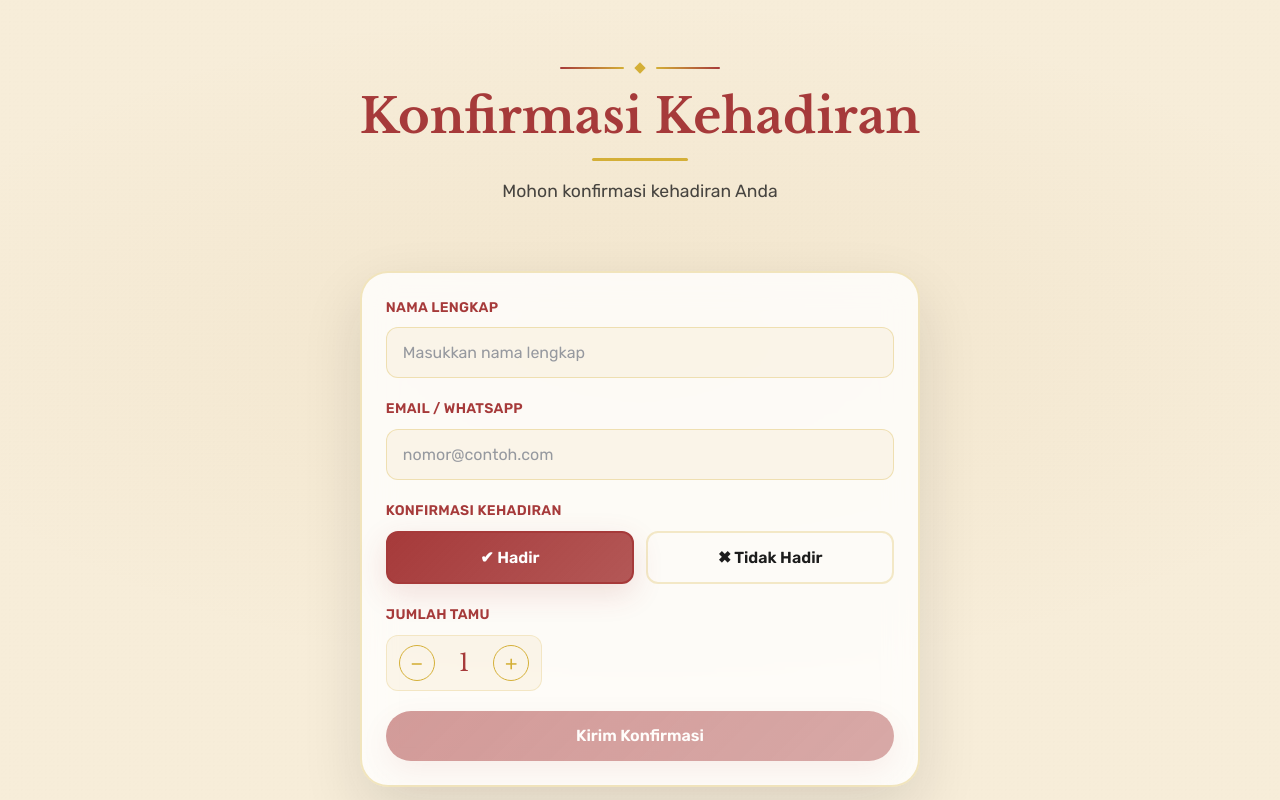
Scenario: RsvpComponent › should hide pax selector when NOT_ATTENDING is selected
Click the button with class "rsvp__toggle" showing "✖ Tidak Hadir".
click(770, 558)  # box [646, 531, 894, 584]
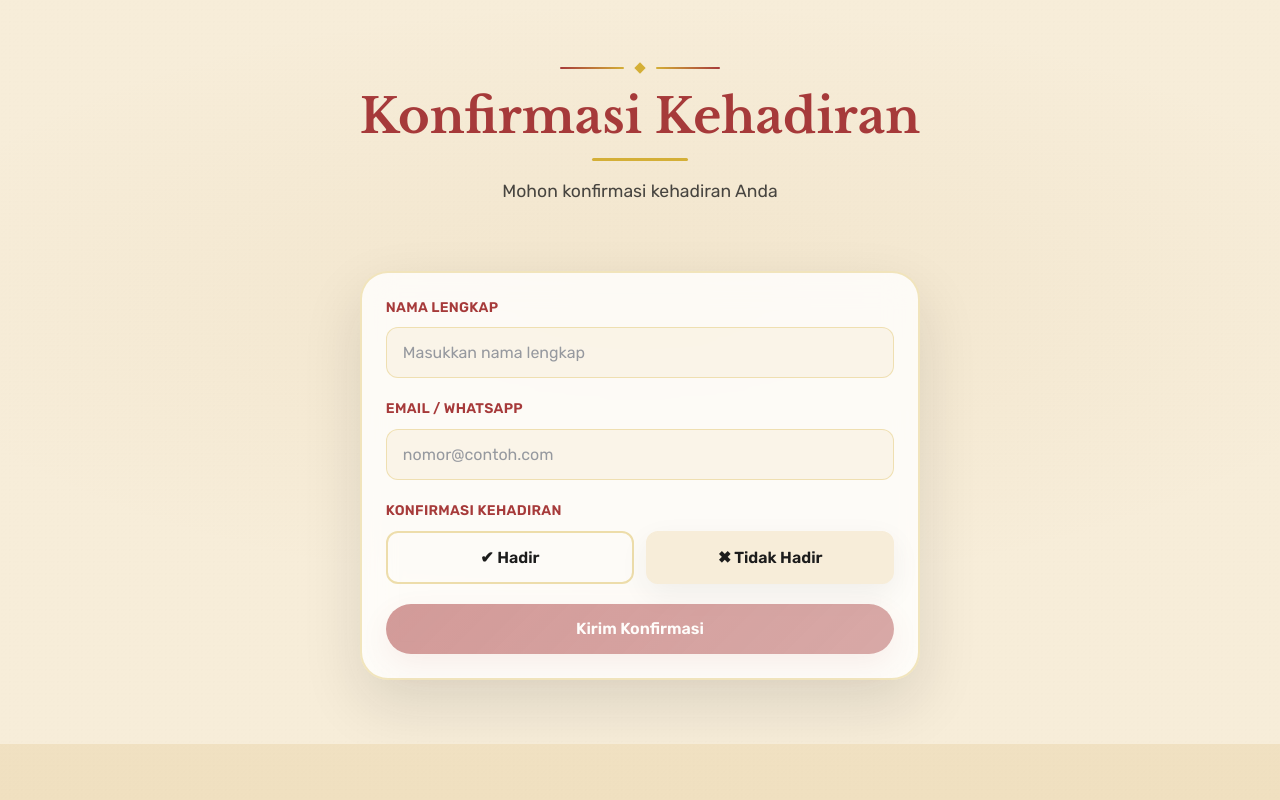
Check: the element with class "rsvp__pax-selector" is gone
